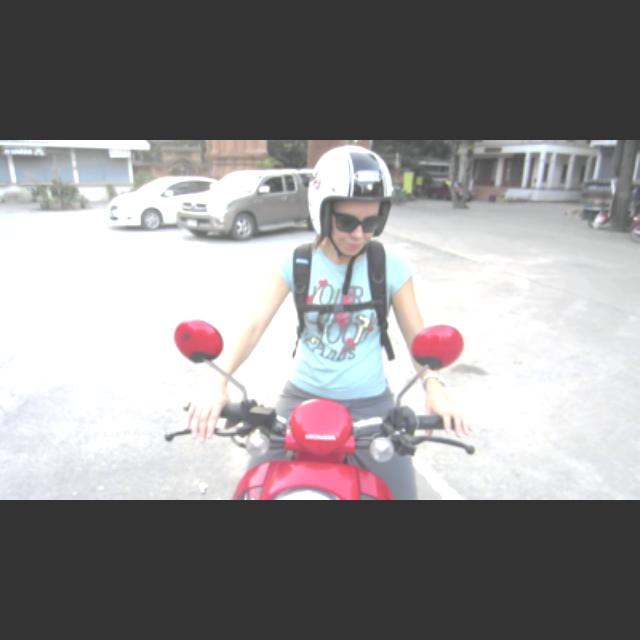Without Helmet: (307, 144, 398, 258)
